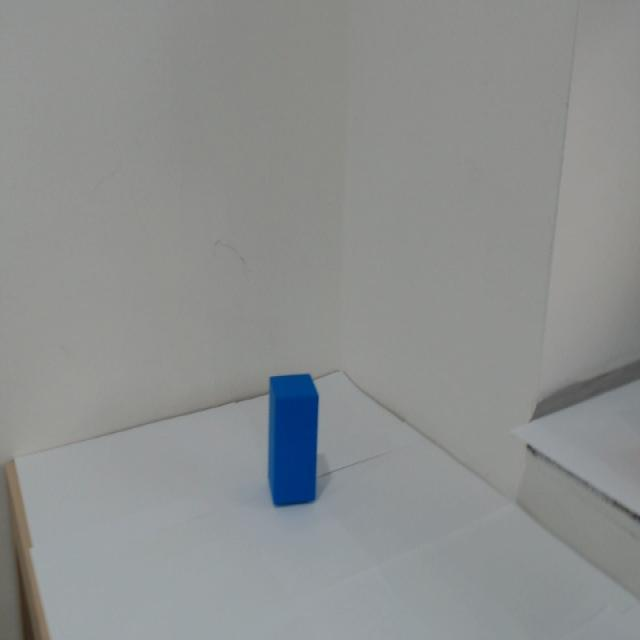cube: (255, 379, 324, 516)
